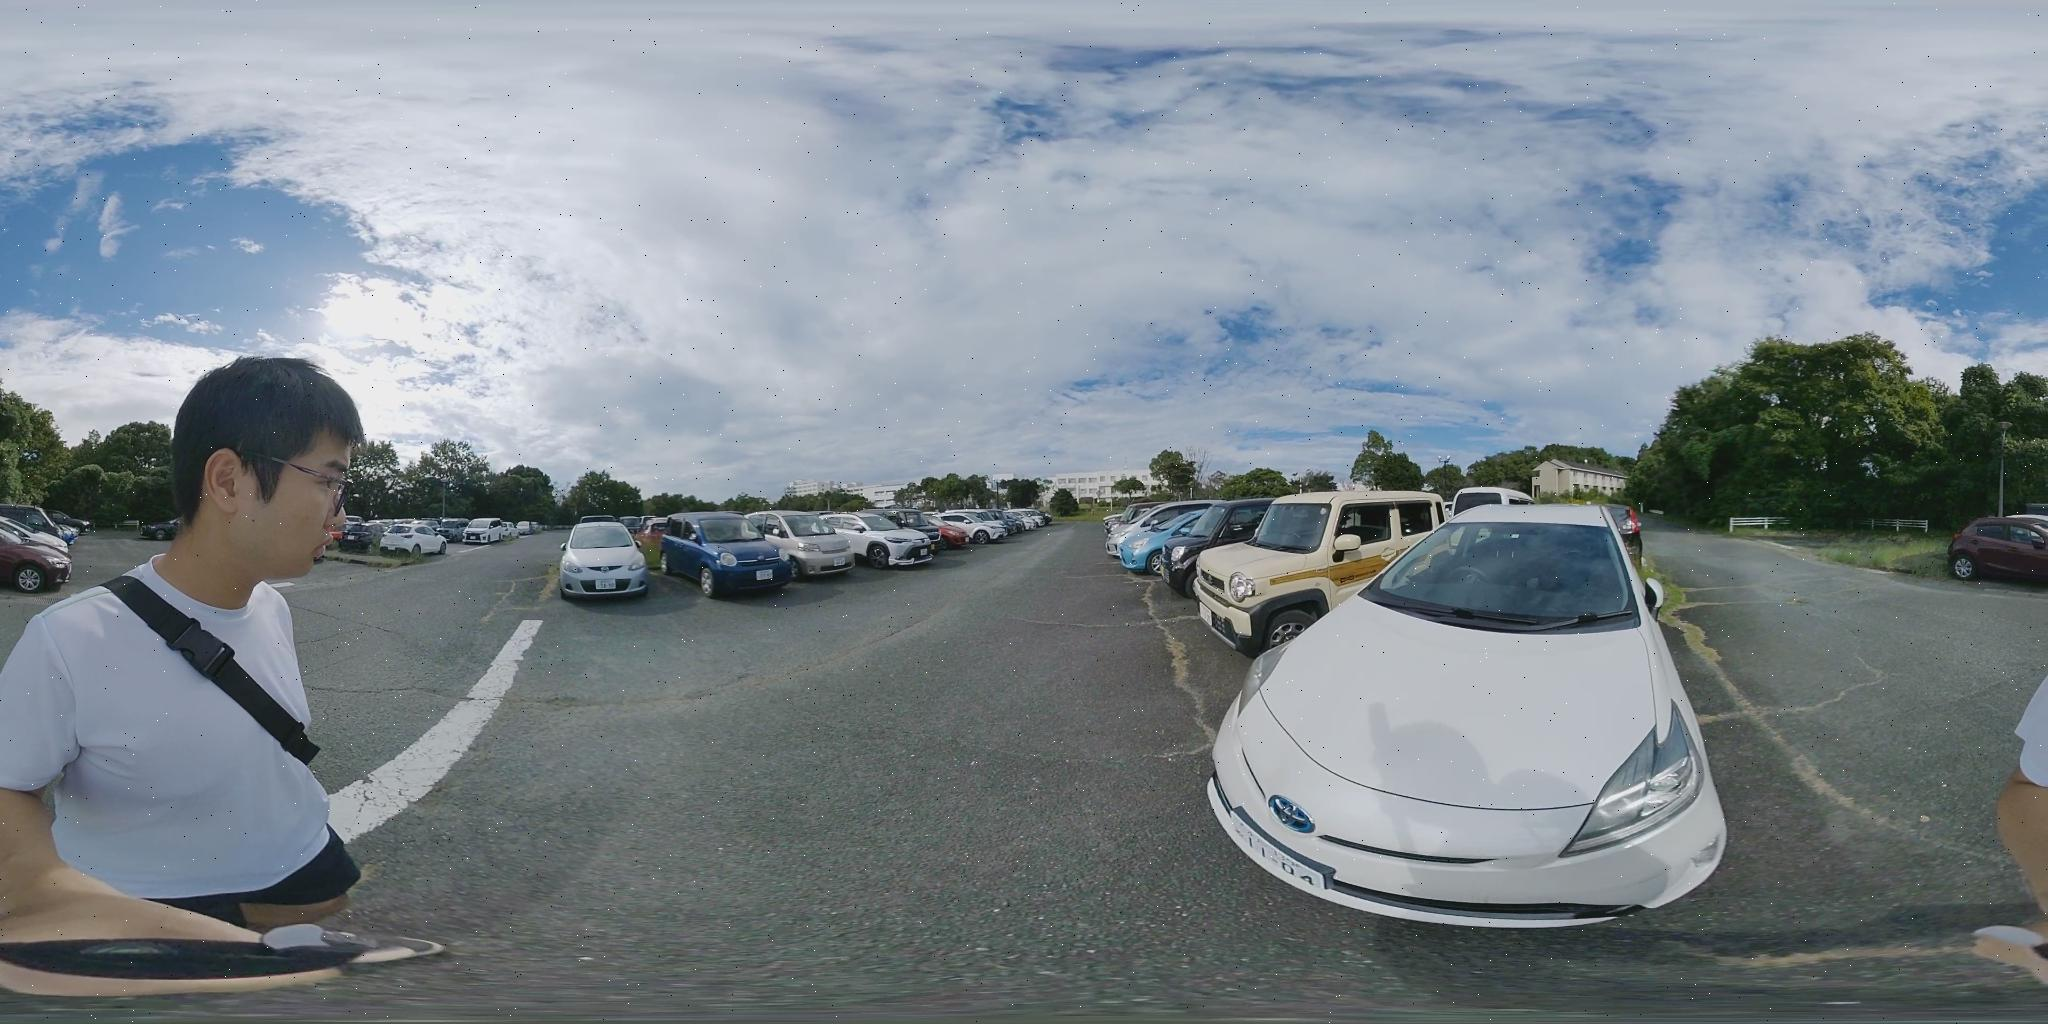car: (1203, 502, 1724, 934), (1189, 491, 1458, 660), (1106, 502, 1272, 583), (664, 517, 823, 593), (721, 515, 863, 576), (562, 522, 658, 600), (0, 504, 80, 593), (1949, 517, 2047, 585), (839, 517, 946, 567), (367, 524, 445, 555), (973, 513, 1025, 543), (934, 516, 982, 546), (455, 521, 500, 545), (508, 524, 542, 538)
